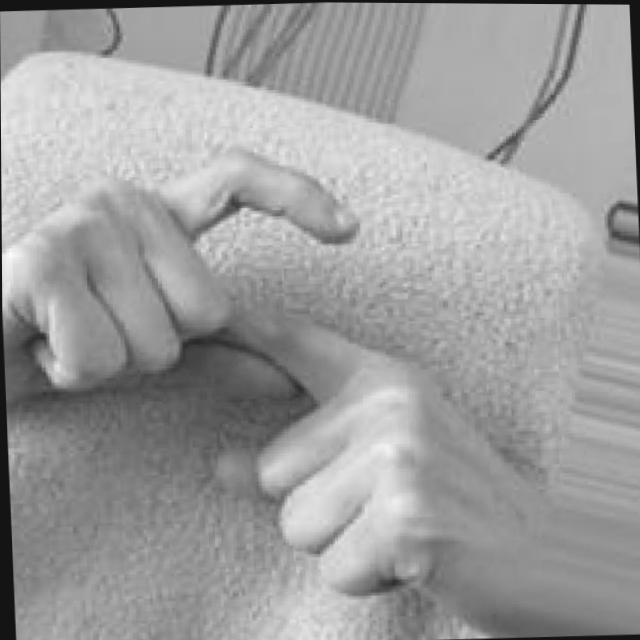S: (1, 126, 502, 640)
